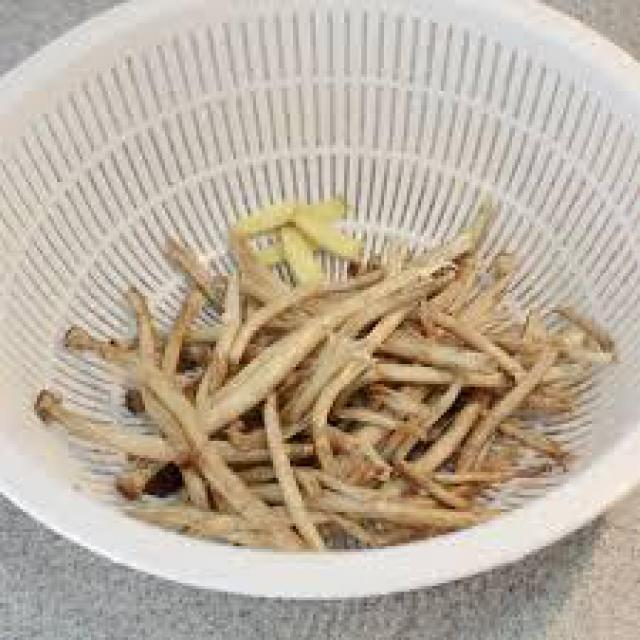Agrocybe aegerita: (46, 202, 617, 547)
